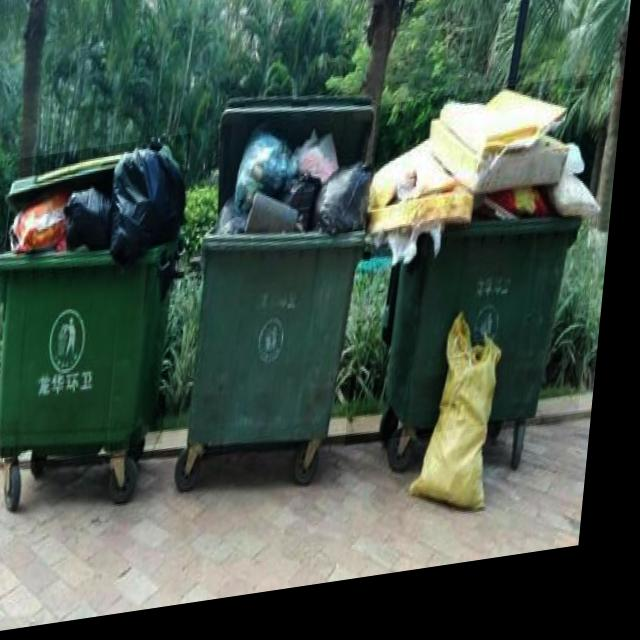garbage: (416, 319, 513, 535)
overflow: (355, 91, 614, 458), (186, 88, 385, 465), (0, 140, 195, 472)
